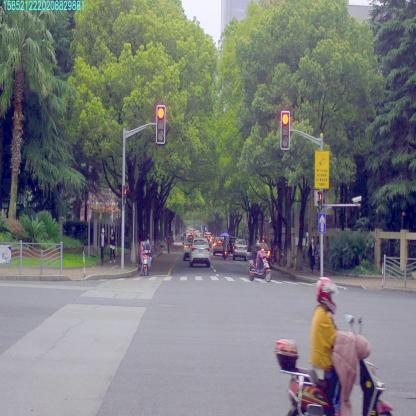traffic-light: (281, 111, 289, 149), (157, 105, 164, 143)
